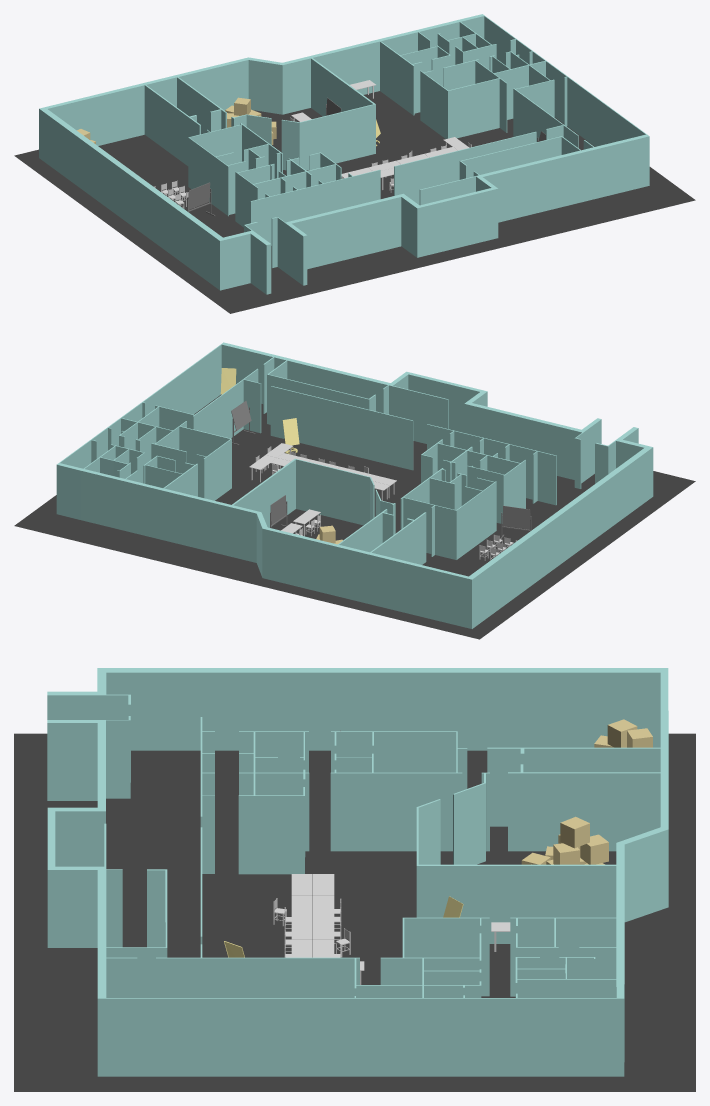
Rendered from simple_office_model.dae.
3 renders of one model, top to bottom at view 1: azimuth 30°, elevation 25°; view 2: azimuth 150°, elevation 25°; view 3: azimuth 270°, elevation 25°, orthographic. The views are drawn at different scales.
Parts seen in each view (by area): view 1: Plane, Plane.001, Cube.065; view 2: Plane, Plane.001, Cube.065, Cube.021; view 3: Plane, Plane.001, Cube.028, Cube.005.
Boxes of the visible parts, left/top/right/bottom form: Plane: left=39, top=14, right=649, bottom=294; Plane.001: left=14, top=91, right=695, bottom=313; Cube.065: left=187, top=182, right=215, bottom=216; Plane: left=56, top=342, right=653, bottom=628; Plane.001: left=14, top=394, right=695, bottom=639; Cube.065: left=500, top=505, right=531, bottom=539; Cube.021: left=231, top=401, right=255, bottom=445; Plane: left=47, top=668, right=668, bottom=1076; Plane.001: left=14, top=733, right=695, bottom=1091; Cube.028: left=560, top=816, right=589, bottom=848; Cube.005: left=580, top=834, right=608, bottom=864.
Size of the model in its own units: 28.08 by 22.59 by 2.91.
